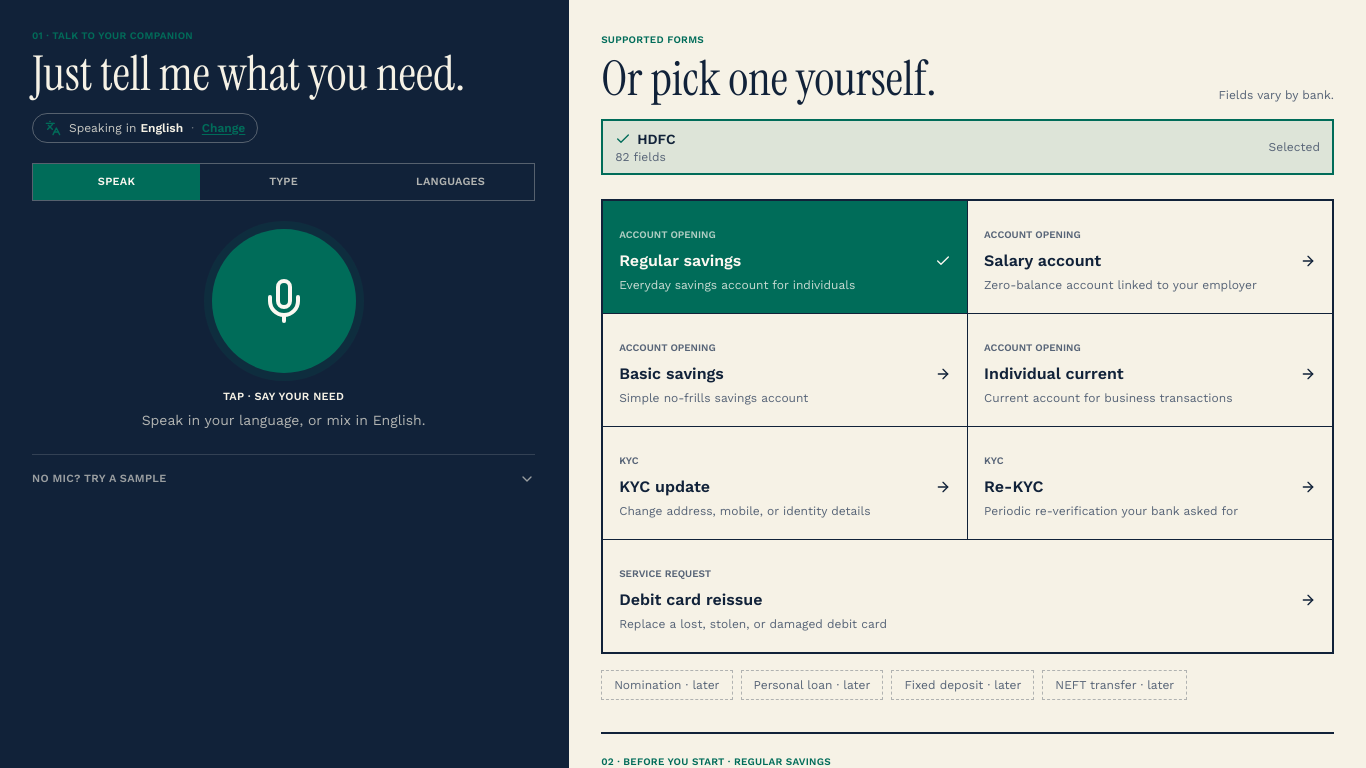
Test: JourneyPage companion panel › marks beta languages in the picker and leaves English and Hindi unmarked
Click the tab "Languages". click: {"x": 451, "y": 182}
box: [367,164,534,200]
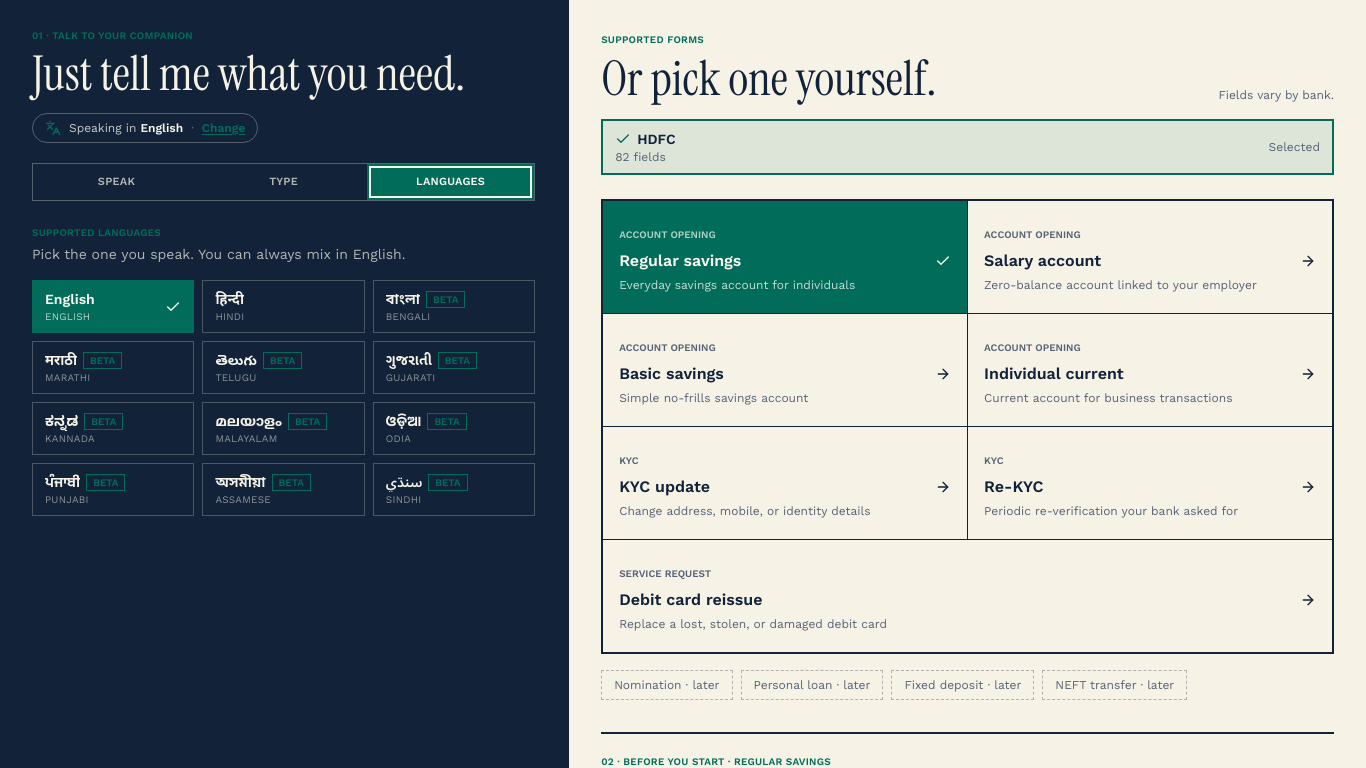
Result: the button "বাংলা Beta Bengali" is shown at [373,280,535,333]
Result: the button "मराठी Beta Marathi" is shown at [32,341,194,394]
Result: the button "తెలుగు Beta Telugu" is shown at [202,341,365,394]
